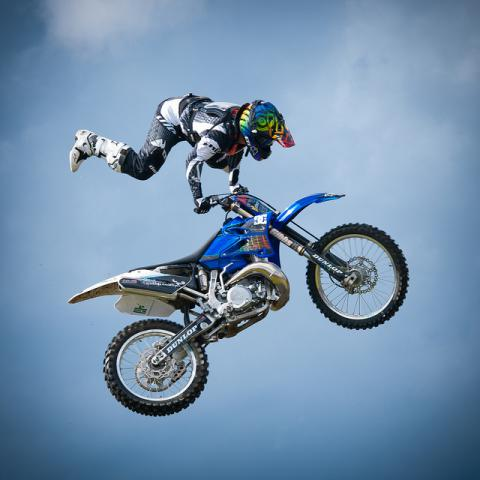motorcycle: (70, 184, 410, 421)
